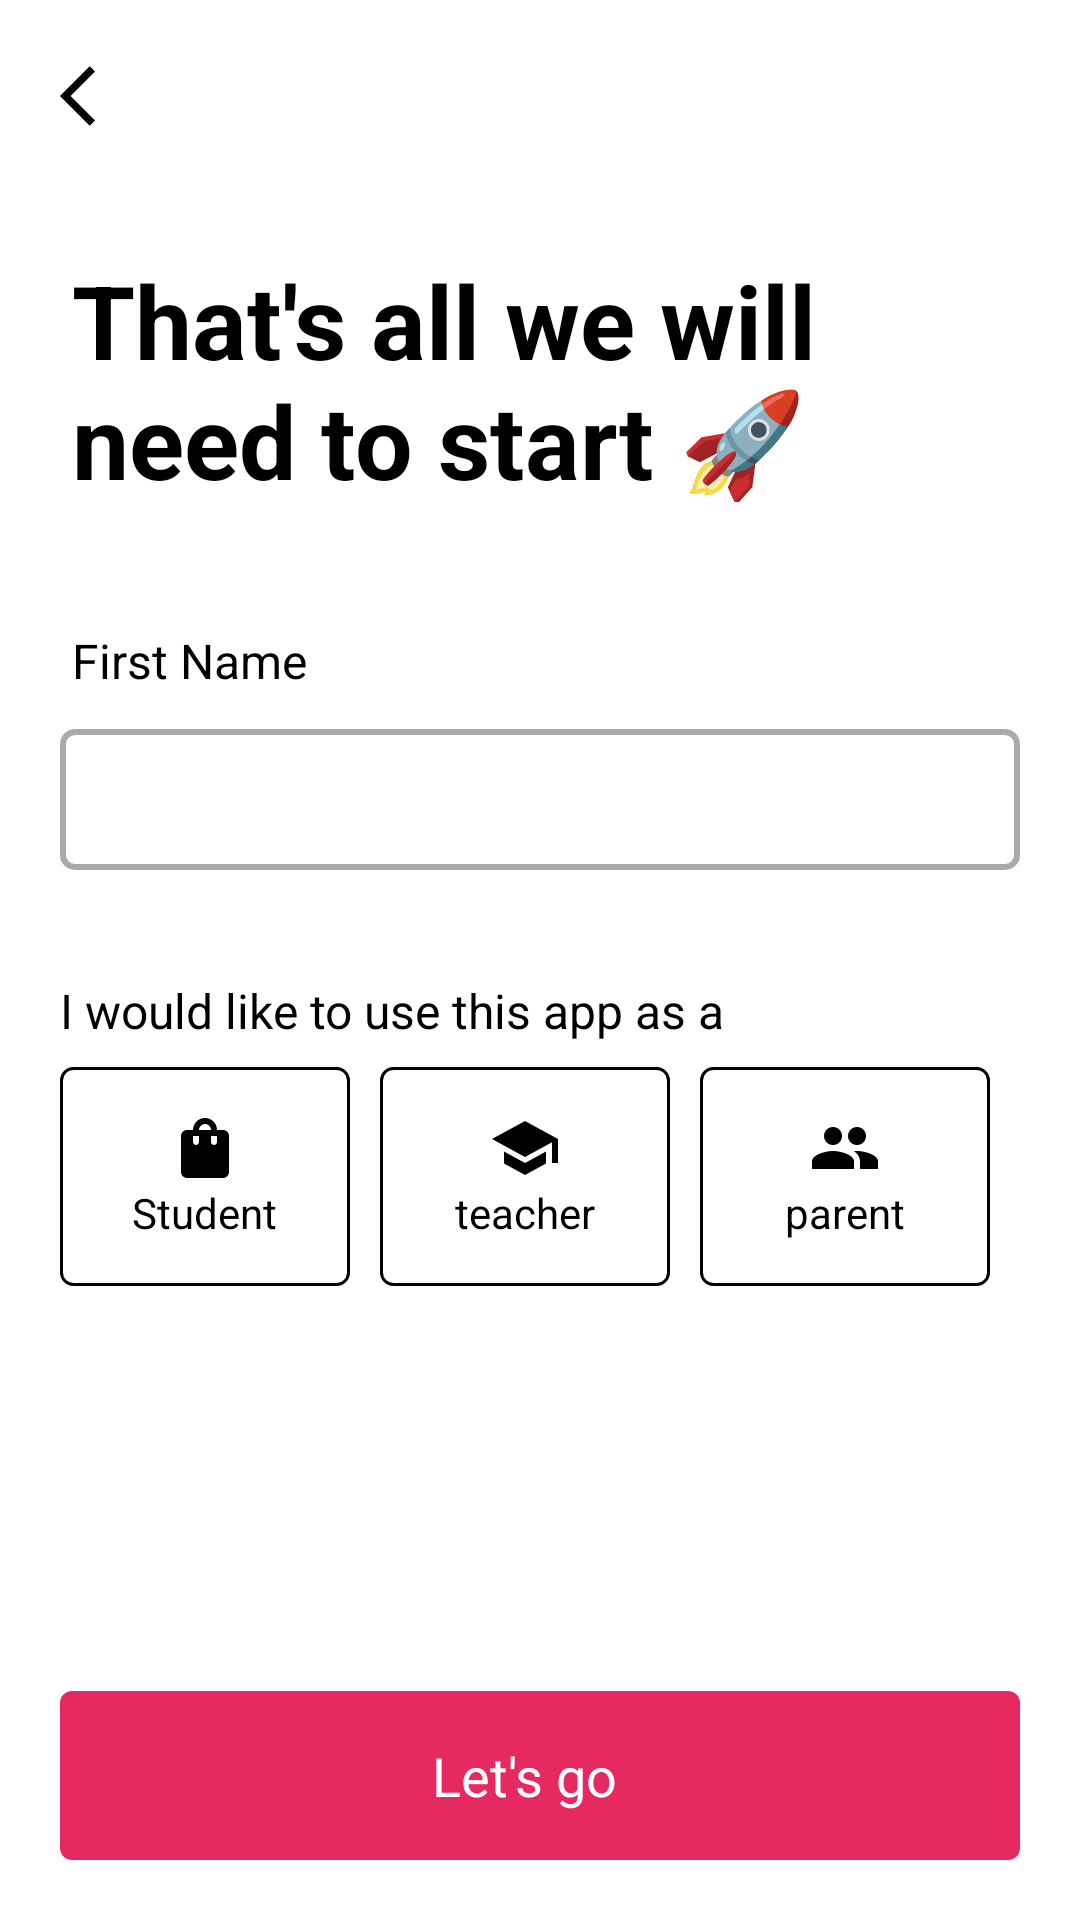

Where icons sit on this 1080*1920 app screen, as box(x1, y1, x2, y2):
arrow back: box(60, 66, 95, 126)
people: box(812, 1127, 878, 1169)
school: box(492, 1121, 558, 1175)
shopping bag: box(181, 1118, 229, 1178)
